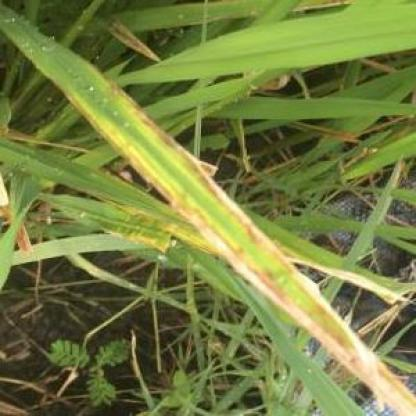Blight: (94, 99, 416, 416)
